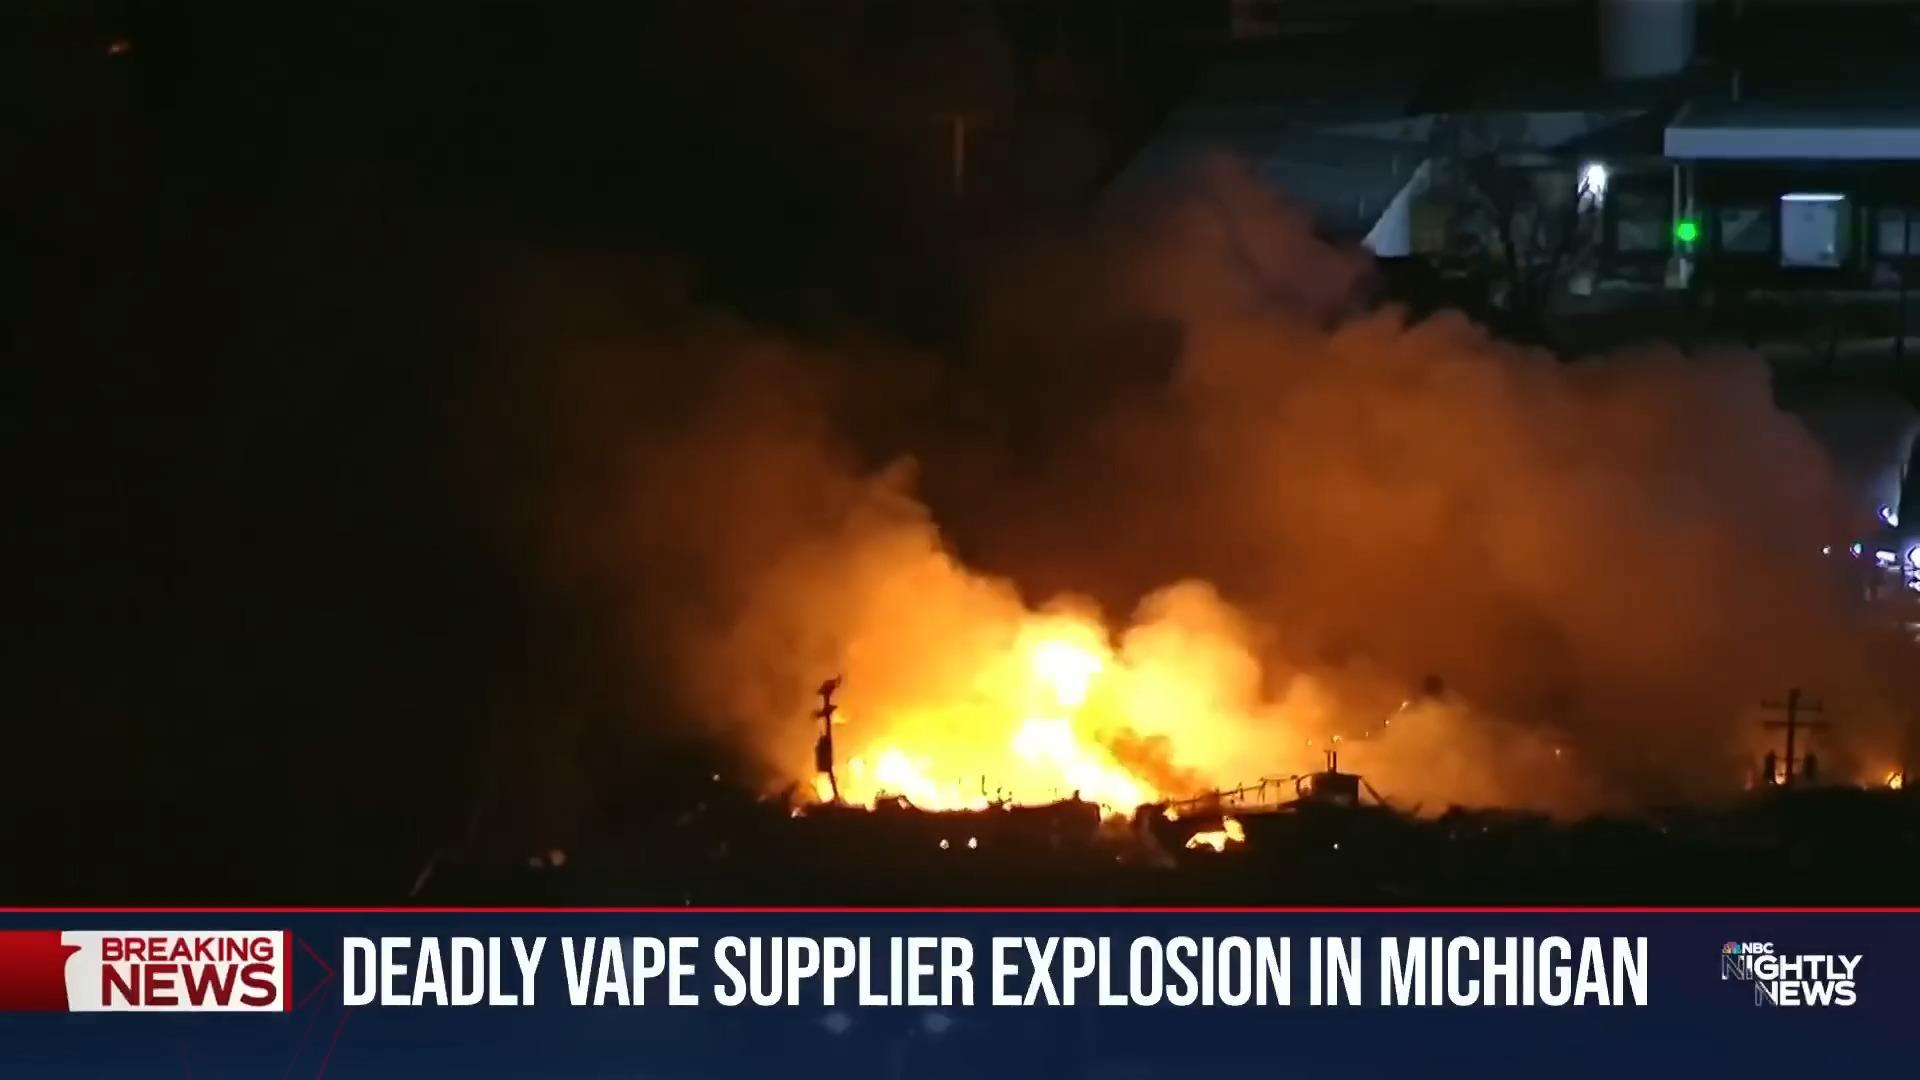fire: (576, 336, 1662, 831)
